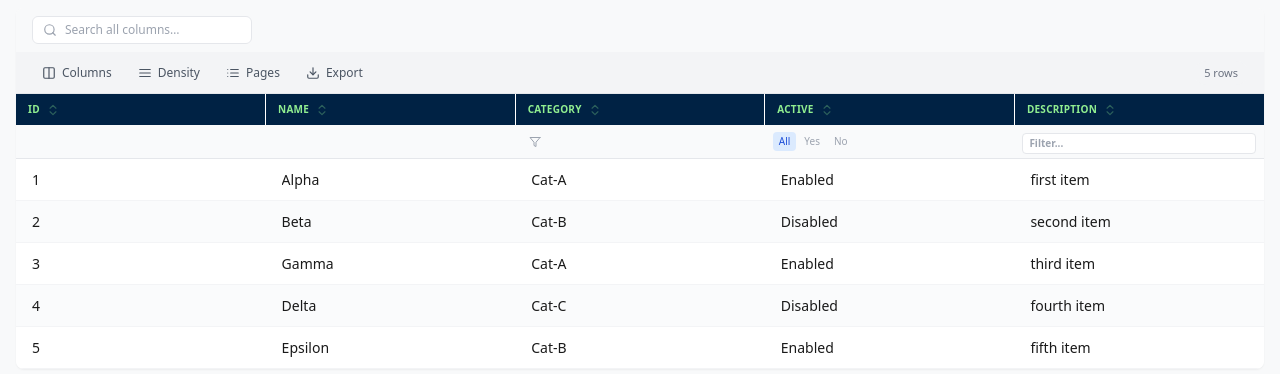
Test: DataTable with column filters › FacetFilter shows "Clear filter" button when selection is active and clears on click
This screenshot has width=1280, height=374.
// Open facet filter
Click the 5th button: (535, 142) top-left (523, 134), bottom-right (547, 150)
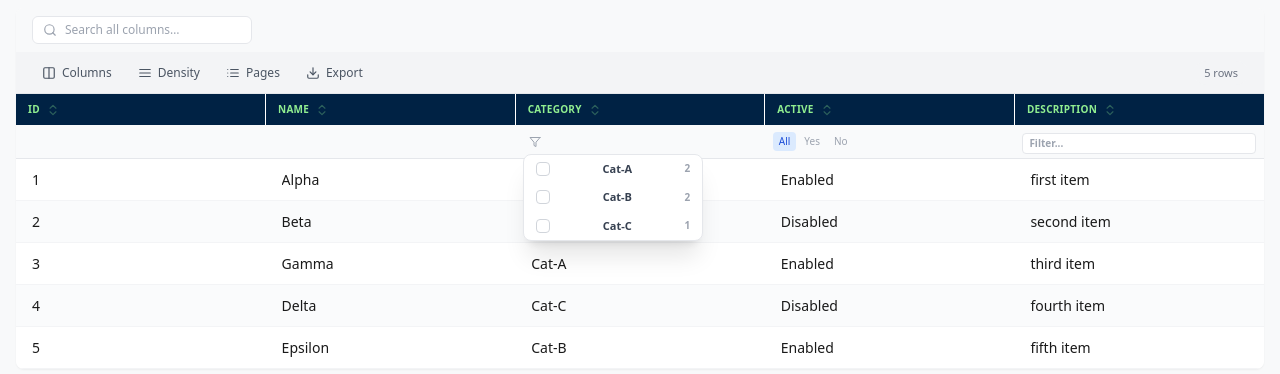
// Select value "Cat-A"
Click the checkbox labelled "Cat-A 2": (613, 168) top-left (536, 160), bottom-right (690, 176)
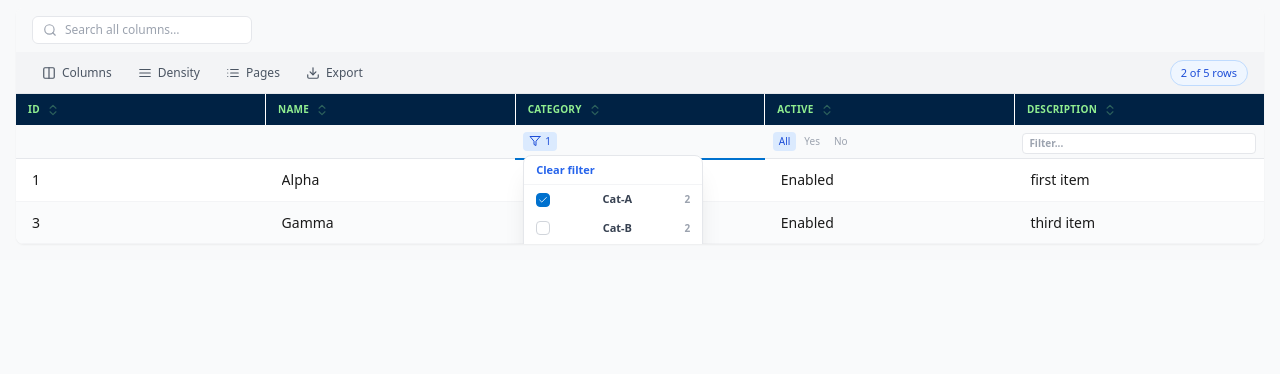
Now the button "Clear filter" is shown
// Click "Clear filter"
Click the button "Clear filter": (613, 171) top-left (524, 156), bottom-right (702, 185)
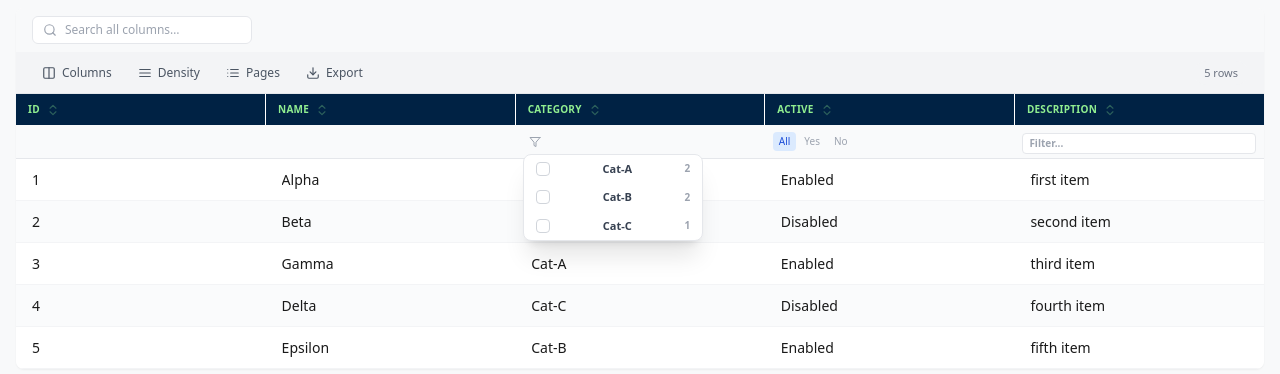
Expected: the text "Alpha" is shown, top-left (282, 170), bottom-right (319, 189)
Now the text "Beta" is shown, box top-left (282, 212), bottom-right (312, 231)
Now the text "Delta" is shown, box top-left (282, 296), bottom-right (316, 315)
